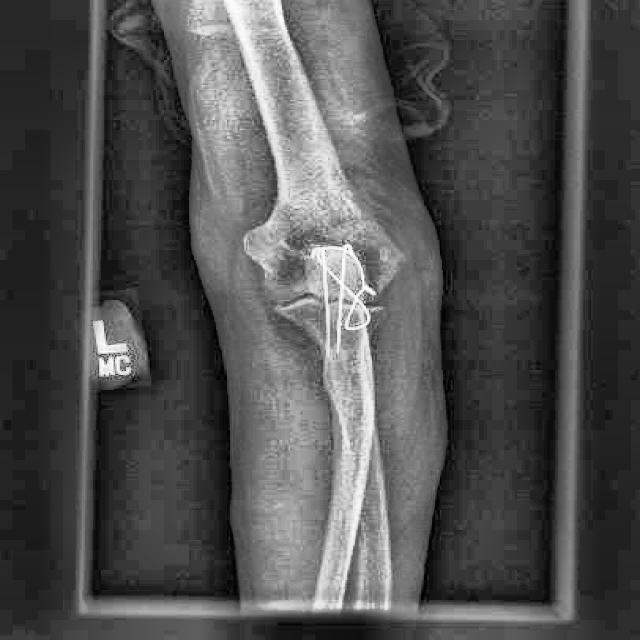elbow positive: (301, 192, 412, 256)
